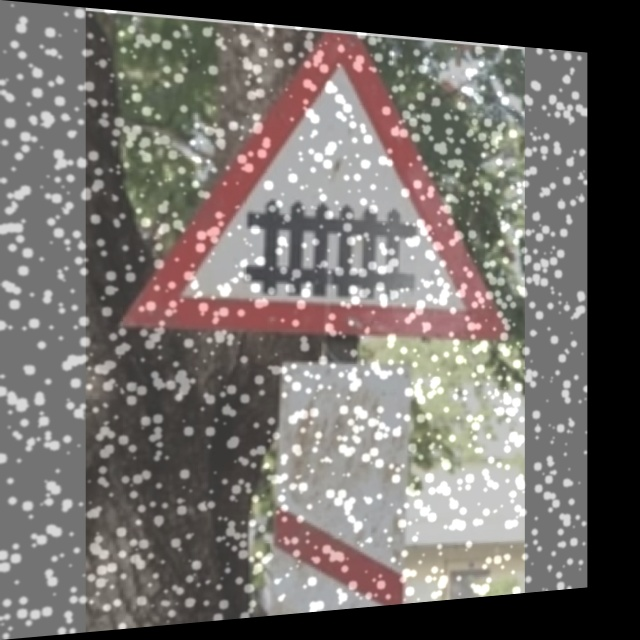Guarded_Level_Crossing: (141, 33, 492, 332)
